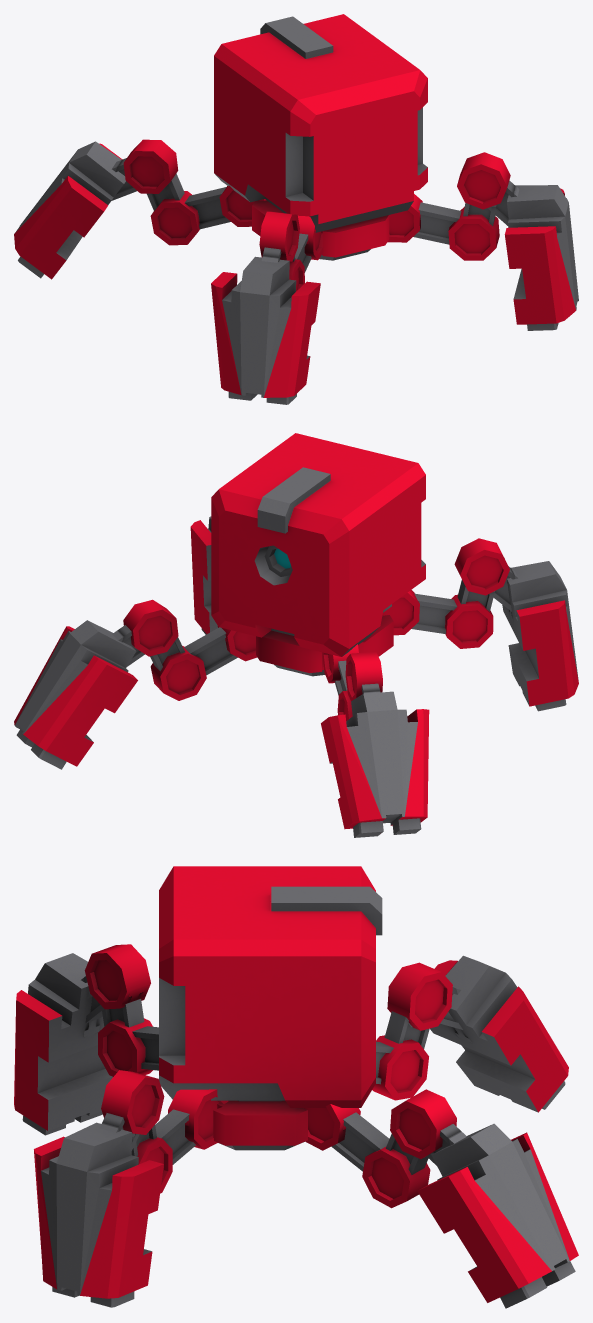
Rendered from Monster1_Attack10.obj.
3 renders of one model, top to bottom at view 1: azimuth 30°, elevation 25°; view 2: azimuth 150°, elevation 25°; view 3: azimuth 270°, elevation 25°, orthographic. The views are drawn at different scales.
Visible parts, largest first — view 1: Box006, Object021, Object017, Object025, Object020, Object028, Object027, Object019, Object018, Object026, Object024, Object022; view 2: Box006, Object025, Object013, Object021, Object024, Object016, Object023, Object015, Object022, Object017, Object014, Object028 (+1 smaller); view 3: Box006, Object017, Object013, Object021, Object025, Object024, Object016, Object028, Object027, Object020, Object014, Object018 (+4 smaller).
Boxes of the visible parts, x1,y1,x2,y2 form: Box006: [214, 14, 427, 260]; Object021: [211, 256, 320, 404]; Object017: [504, 185, 578, 330]; Object025: [14, 141, 125, 279]; Object020: [457, 152, 519, 225]; Object028: [111, 139, 178, 200]; Object027: [147, 173, 199, 245]; Object019: [448, 203, 499, 260]; Object018: [387, 194, 461, 244]; Object026: [185, 185, 266, 229]; Object024: [259, 211, 299, 262]; Object022: [295, 215, 323, 272]; Box006: [211, 433, 425, 676]; Object025: [321, 691, 429, 837]; Object013: [14, 620, 137, 769]; Object021: [502, 561, 578, 711]; Object024: [454, 538, 518, 611]; Object016: [112, 599, 178, 666]; Object023: [445, 580, 494, 648]; Object015: [150, 637, 206, 700]; Object022: [382, 590, 457, 635]; Object017: [190, 516, 217, 634]; Object014: [184, 626, 257, 675]; Object028: [345, 651, 382, 700]; Box006: [159, 866, 382, 1150]; Object017: [34, 1122, 163, 1307]; Object013: [417, 1123, 578, 1308]; Object021: [14, 953, 112, 1135]; Object025: [430, 955, 568, 1112]; Object024: [81, 944, 150, 1023]; Object016: [390, 1089, 466, 1165]; Object028: [387, 962, 462, 1030]; Object027: [372, 1011, 429, 1100]; Object020: [100, 1070, 164, 1150]; Object014: [303, 1104, 389, 1171]; Object018: [155, 1089, 228, 1164].
Size of the model in its own units: 155 by 93.26 by 154.
